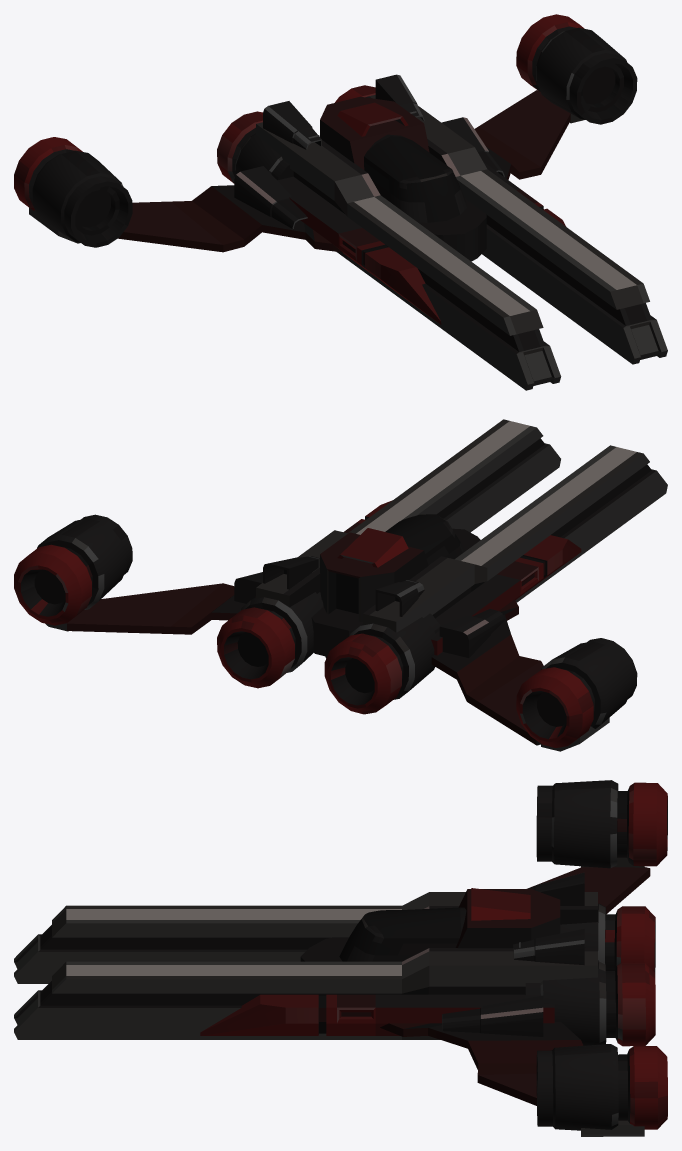
Rendered from executioner.obj.
The picture shows the model from 3 angles, top to bottom: view 1: azimuth 30°, elevation 25°; view 2: azimuth 150°, elevation 25°; view 3: azimuth 270°, elevation 25°; orthographic projection. The views are drawn at different scales.
Parts seen in each view (by area): view 1: Executioner_Cube.000; view 2: Executioner_Cube.000; view 3: Executioner_Cube.000.
Boxes of the visible parts, box(x1,y1,x2,y2) form: Executioner_Cube.000: box(14, 14, 667, 390); Executioner_Cube.000: box(14, 419, 667, 751); Executioner_Cube.000: box(14, 780, 667, 1136).
Bounding box in the file's own units: 10.02 × 1.85 × 9.2.
